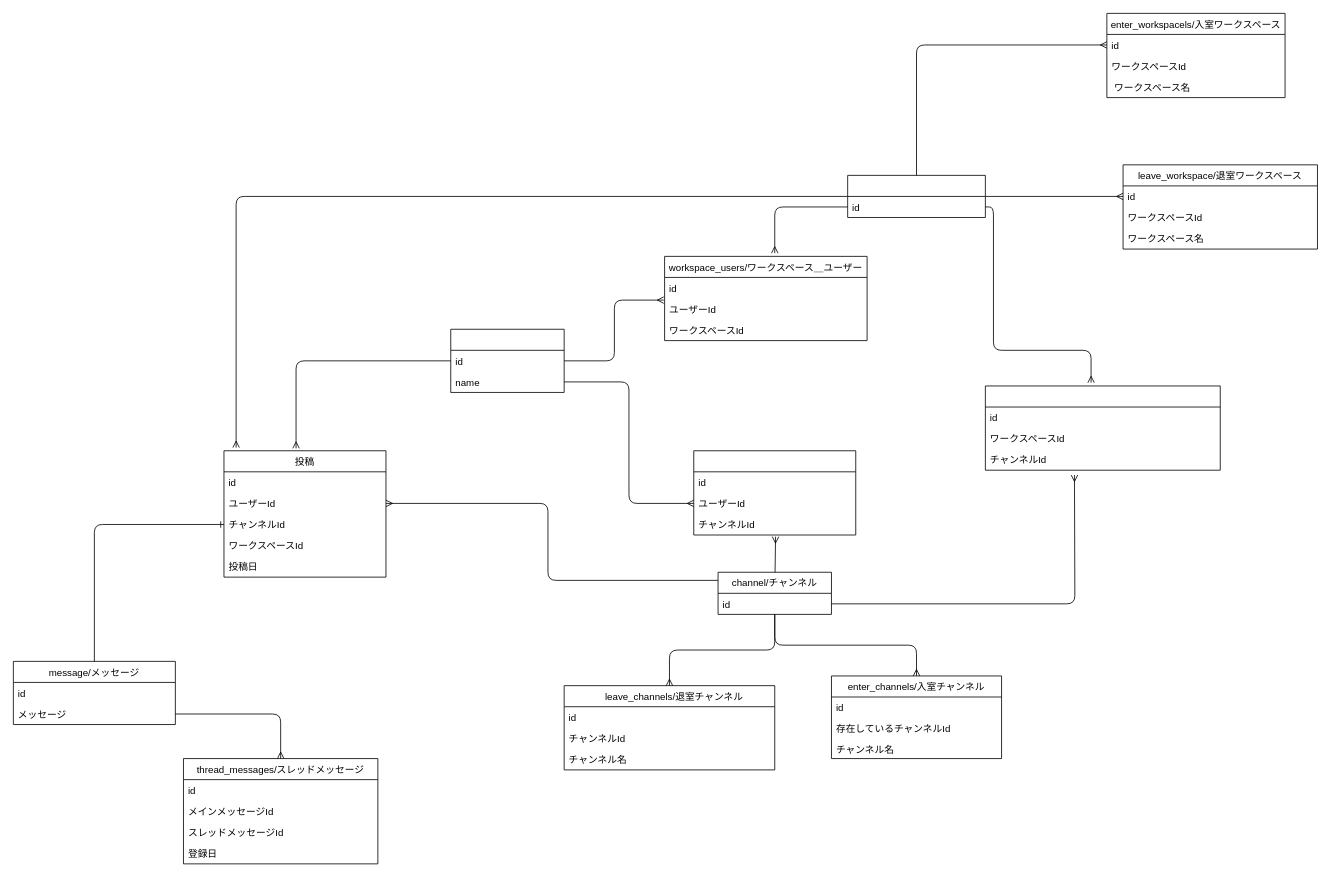
The diagram is 1331 pixels wide and 877 high, and some of its shapes have lost their labels. Here are the shapes that lost their labels. From the top down, the box of each, then its label:
(847, 175, 985, 217): workspacel/ワークスペース
(450, 328, 564, 392): user/ユーザー
(985, 385, 1220, 470): workspace_channel/ワークスペース＿チャンネル
(693, 450, 856, 535): channel_users/チャンネル＿ユーザー
